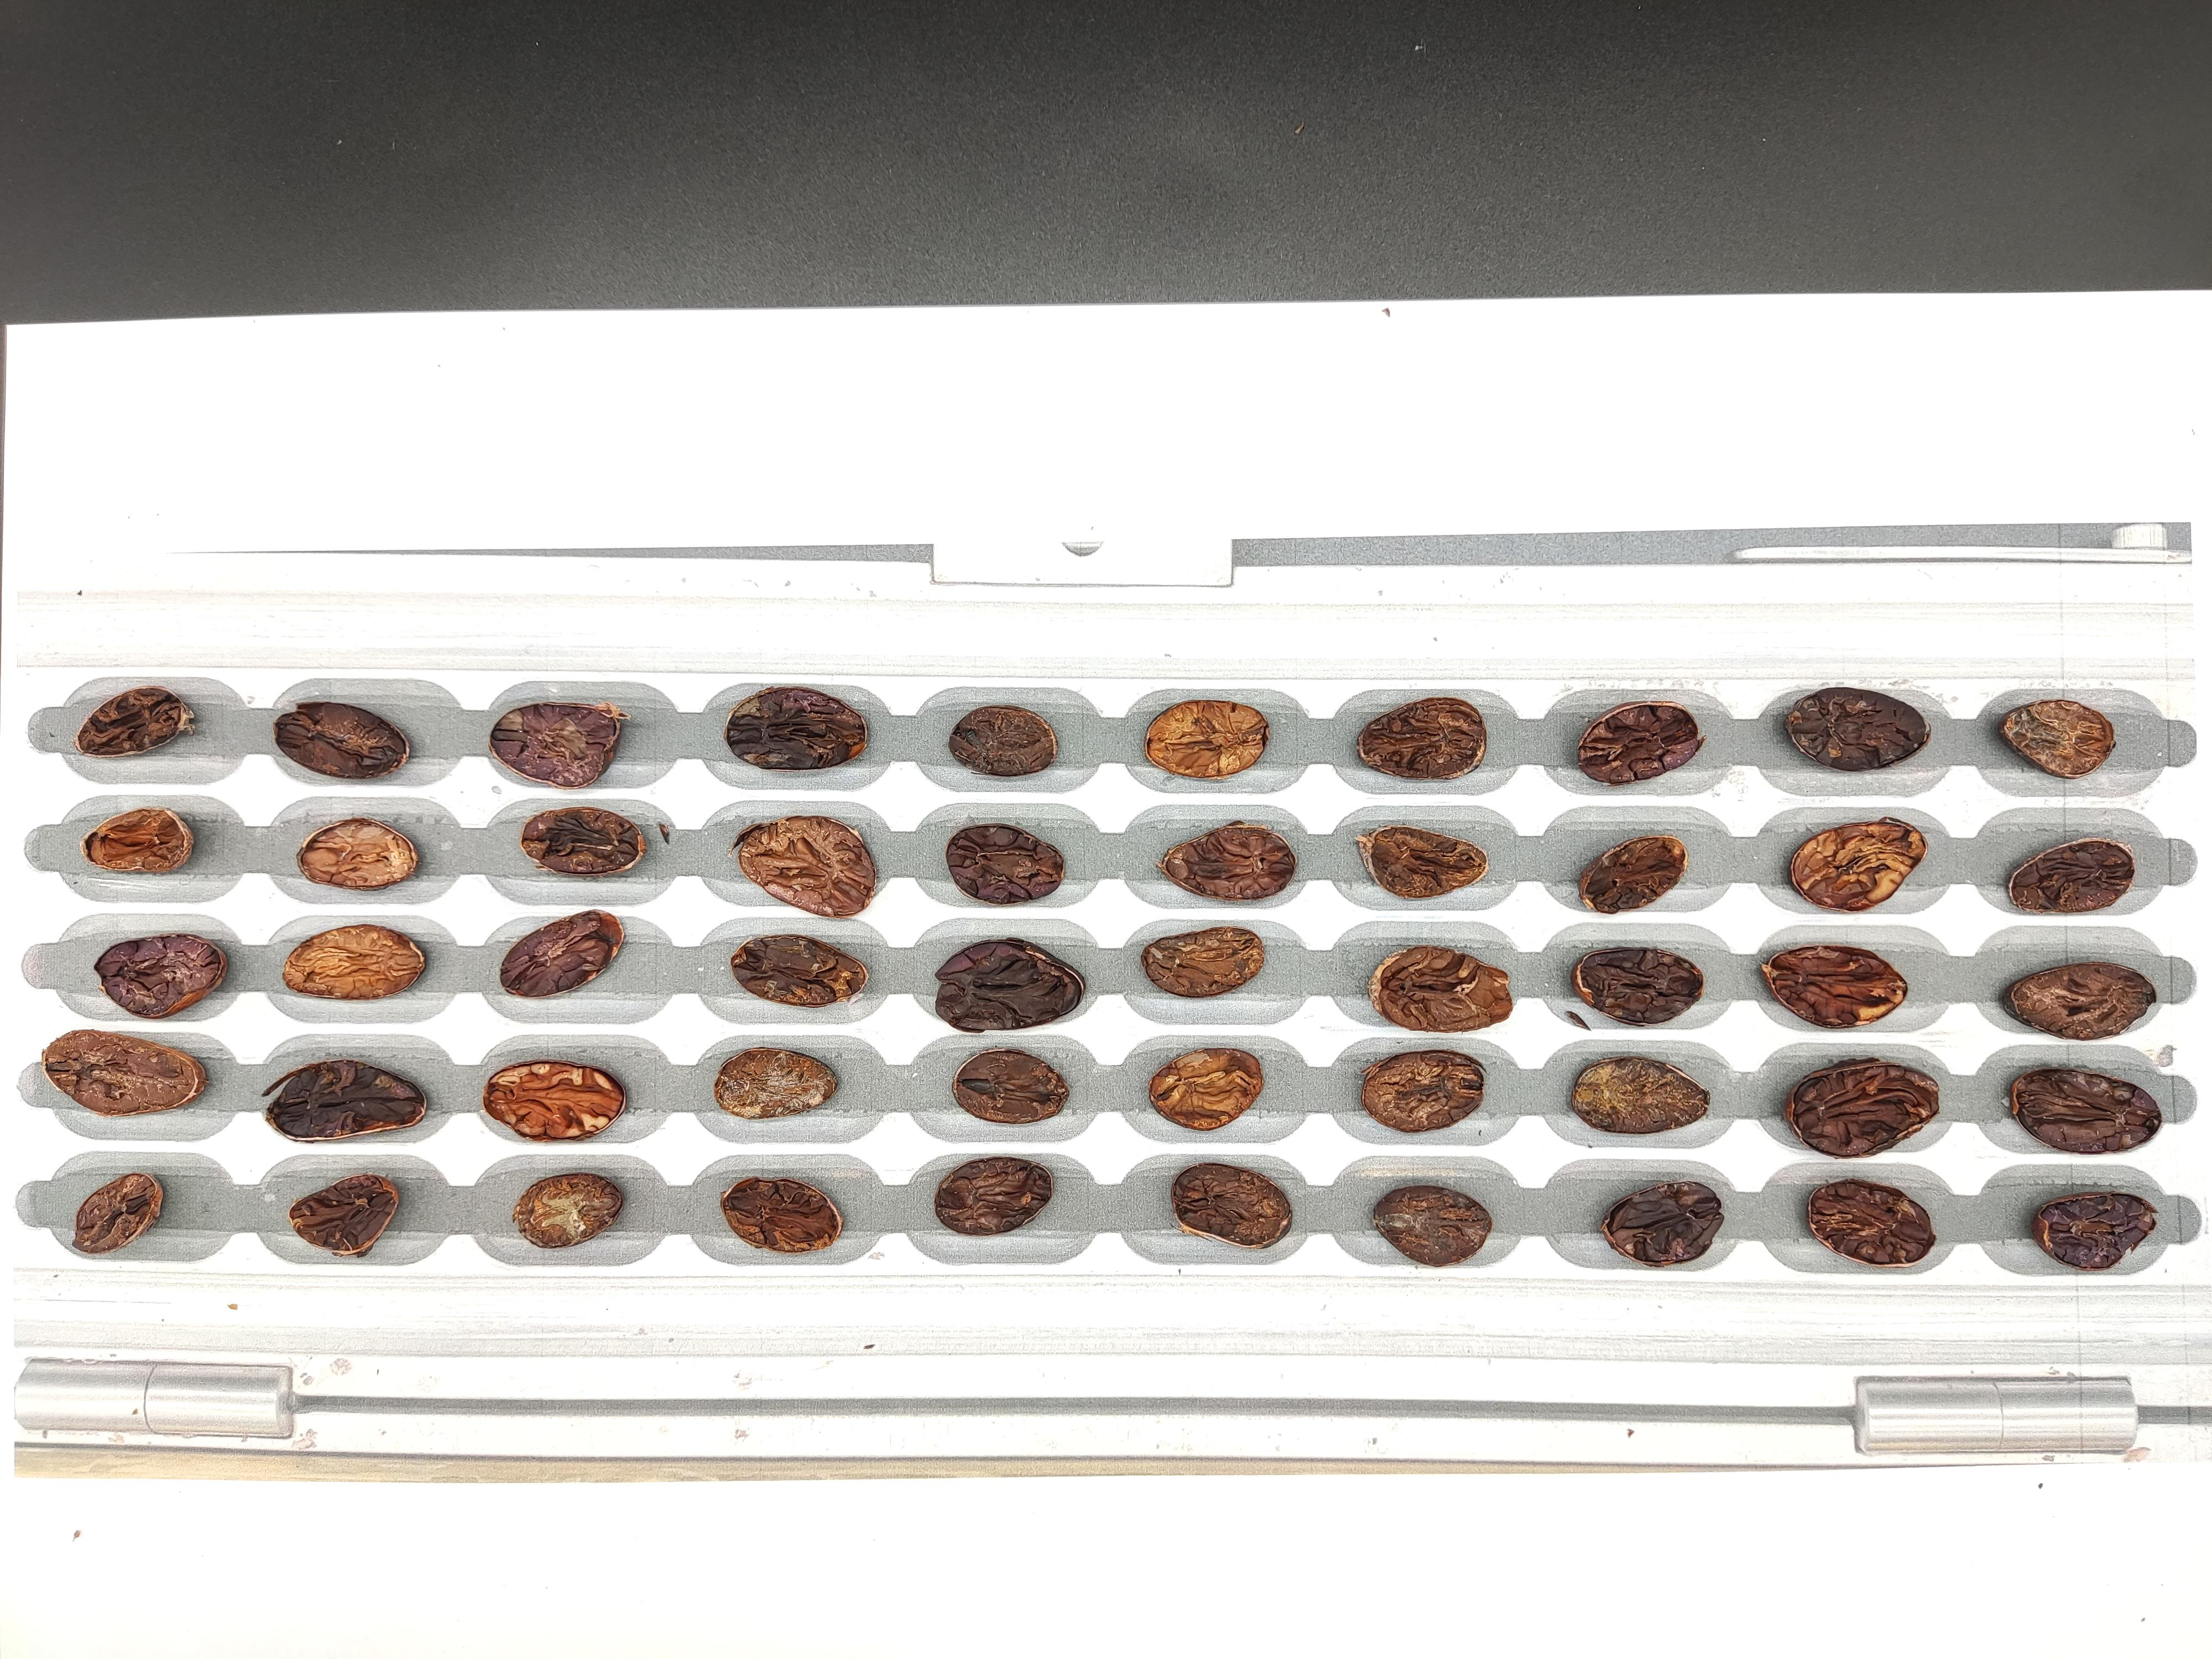Brown - G1: (1993, 538, 2076, 596), (1979, 479, 2060, 532), (1324, 542, 1406, 589), (1116, 408, 1183, 455)
Brown - G2: (1991, 415, 2071, 474), (1453, 416, 1533, 474), (1777, 481, 1860, 533), (2001, 601, 2076, 655), (1670, 418, 1747, 465), (1446, 599, 1515, 648), (1883, 422, 1947, 474), (1665, 533, 1730, 586), (1773, 356, 1844, 403), (1773, 418, 1846, 464)
Brown - G3: (1099, 521, 1190, 579), (2101, 490, 2188, 538), (1223, 471, 1303, 519), (1676, 592, 1747, 645), (1771, 535, 1844, 586), (1662, 354, 1735, 404), (1113, 594, 1170, 648), (1564, 535, 1632, 580), (1663, 471, 1733, 514), (1228, 416, 1298, 460)
Insect-damaged: (1879, 537, 1963, 584)
Mouldy: (1336, 594, 1407, 647), (1780, 601, 1848, 653), (1439, 533, 1517, 579), (2099, 354, 2168, 403), (1562, 356, 1627, 401)
Partly Purple - G1: (1555, 477, 1641, 532), (1881, 356, 1956, 408)
Partly Purple - G2: (1212, 540, 1305, 592), (2106, 542, 2193, 594), (1446, 349, 1529, 399), (1881, 481, 1958, 532), (1339, 411, 1414, 453), (1562, 420, 1629, 467)
Partly Purple - G3: (1331, 462, 1404, 516)
Total Purple - G2: (2114, 606, 2189, 659)
Total Purple - G3: (1325, 356, 1402, 410), (1129, 476, 1202, 528)
Very Dark Brown - G1: (1113, 347, 1181, 397)
Very Dark Brown - G2: (1895, 599, 1970, 657), (2104, 423, 2179, 472), (1554, 587, 1623, 638), (1224, 598, 1287, 650)
Very Dark Brown - G3: (1989, 349, 2074, 399), (1449, 474, 1529, 523), (1217, 356, 1292, 406)
